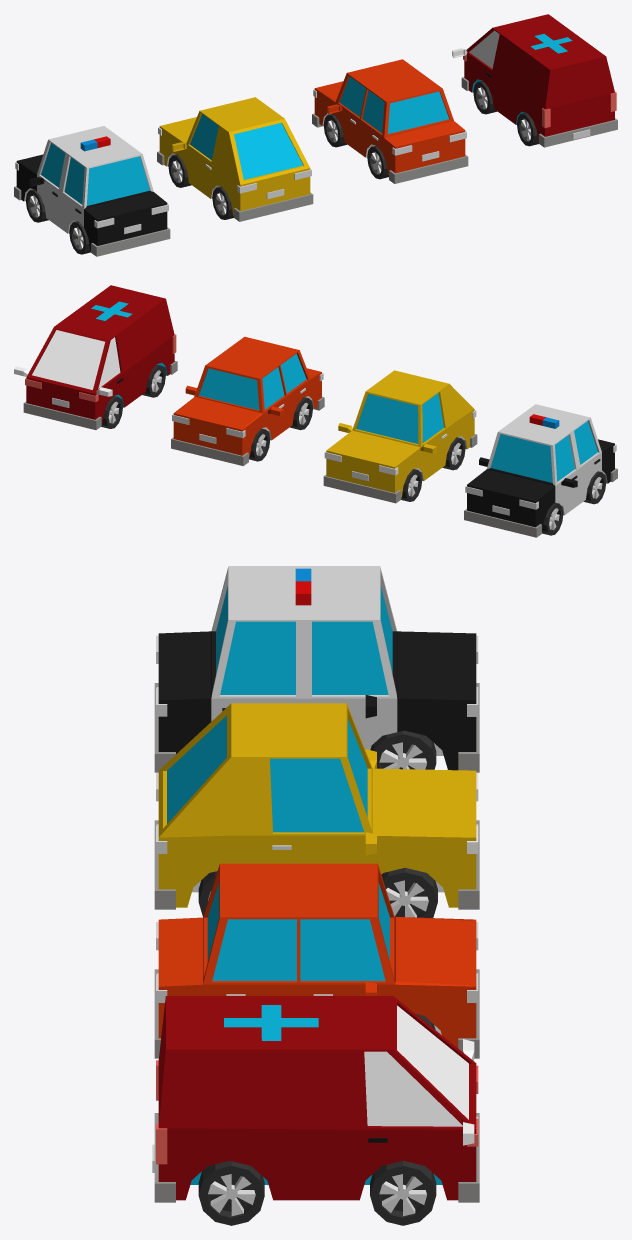
The model's file is carros variaçôes em 3d.fbx.
3 renders of one model, top to bottom at view 1: azimuth 30°, elevation 25°; view 2: azimuth 150°, elevation 25°; view 3: azimuth 270°, elevation 25°, orthographic. The views are drawn at different scales.
Parts seen in each view (by area): view 1: carro.003, carro.002, carro.001, carro, lataria t.002, lataria t, lataria t.001, lataria t.003, Cilindro.009, Cilindro.002, Cilindro.001, Cilindro.010 (+4 smaller); view 2: carro.003, carro.002, carro.001, carro, lataria f.001, lataria f.003, lataria f, lataria f.002, Cilindro.010, Cilindro.001, Cilindro.009, Cilindro.002 (+4 smaller); view 3: carro.003, carro.001, carro.002, carro, Cilindro.001, Cilindro.009, Cilindro.003, Cilindro.008.
Part boxes in pixels (x1,y1,x2,y2): carro.003: [464, 14, 614, 140]; carro.002: [16, 126, 167, 250]; carro.001: [159, 97, 310, 215]; carro: [314, 59, 465, 174]; lataria t.002: [91, 227, 170, 256]; lataria t: [389, 154, 468, 183]; lataria t.001: [234, 192, 313, 221]; lataria t.003: [538, 118, 617, 147]; Cilindro.009: [517, 112, 538, 146]; Cilindro.002: [323, 114, 347, 147]; Cilindro.001: [473, 80, 497, 114]; Cilindro.010: [367, 145, 388, 179]; carro.003: [26, 285, 174, 423]; carro.002: [467, 404, 614, 531]; carro.001: [326, 370, 474, 497]; carro: [173, 336, 321, 456]; lataria f.001: [323, 475, 401, 503]; lataria f.003: [23, 401, 101, 429]; lataria f: [171, 437, 248, 466]; lataria f.002: [464, 509, 541, 537]; Cilindro.010: [290, 397, 312, 430]; Cilindro.001: [101, 396, 122, 428]; Cilindro.009: [142, 364, 165, 397]; Cilindro.002: [249, 428, 270, 461]; carro.003: [158, 996, 476, 1200]; carro.001: [158, 703, 476, 907]; carro.002: [158, 566, 476, 770]; carro: [158, 863, 476, 1048]; Cilindro.001: [370, 1161, 436, 1225]; Cilindro.009: [198, 1161, 264, 1225]; Cilindro.003: [381, 867, 437, 917]; Cilindro.008: [370, 730, 436, 769].
Bounding box in the file's own units: 1563 × 250 × 412.
